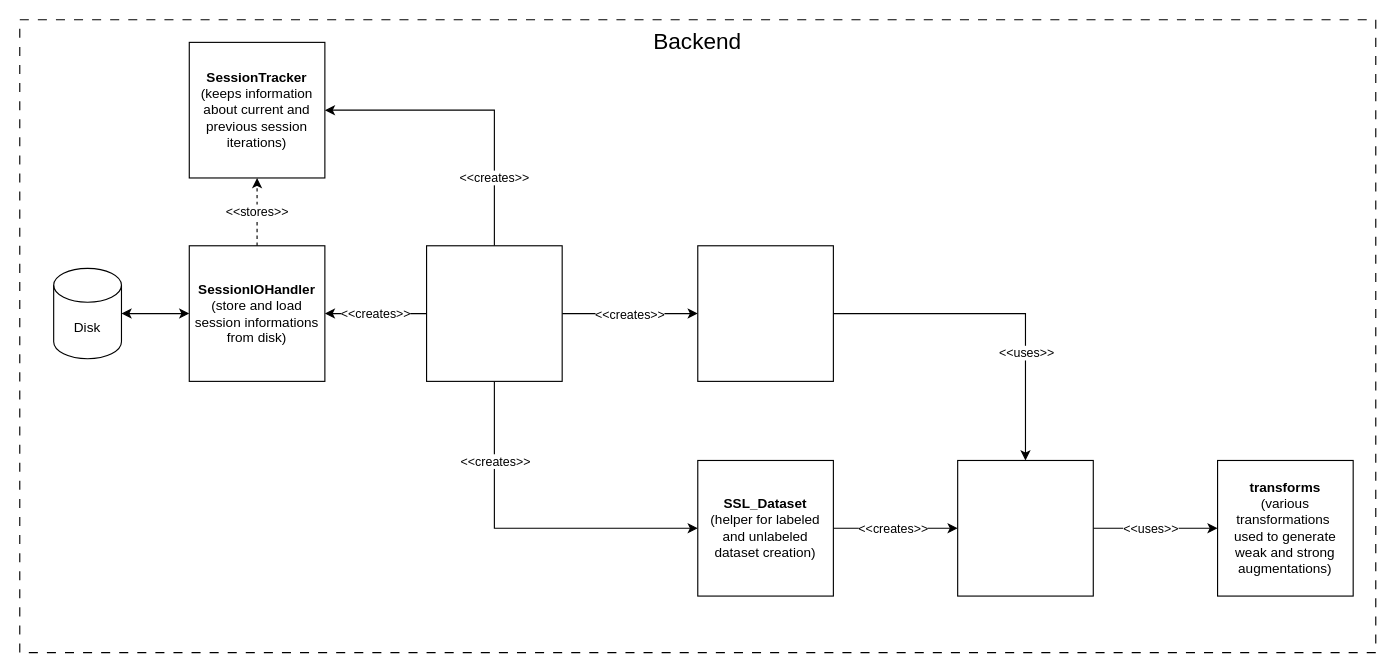
This 1396x672 diagram has some shape labels left out. The centre of each missing label's shape, as x and y in pixels:
BasicDataset (actual dataset with weak and strong augmentation creation logic): the point at 1025,527
FixMatch (FixMatch algorithm): the point at 765,313
Session (main orchestrator): the point at 493,313
